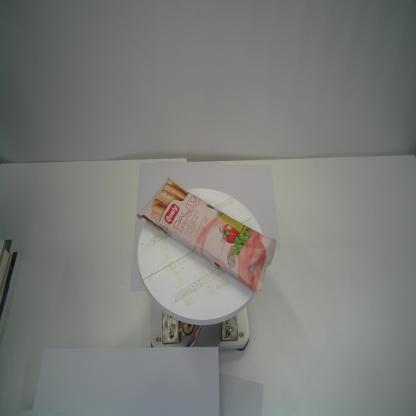Dessert: (136, 175, 277, 293)
